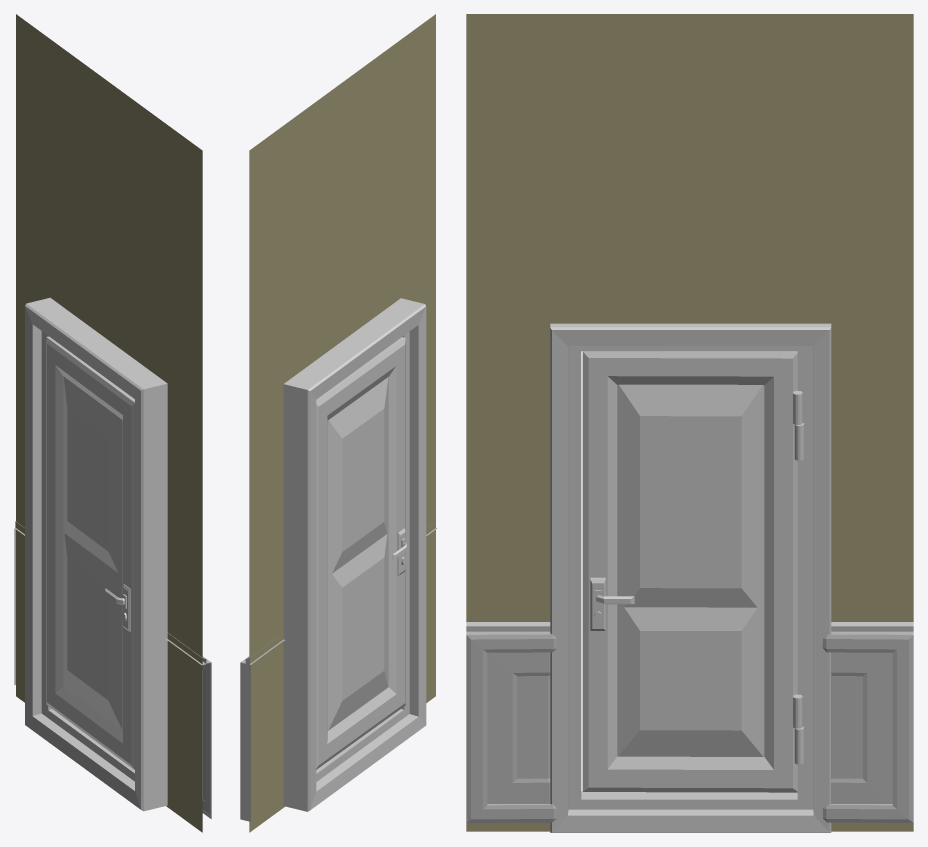
Rendered from WallDoorStatic.fbx.
The picture shows the model from 3 angles, left to right: view 1: azimuth 30°, elevation 25°; view 2: azimuth 150°, elevation 25°; view 3: azimuth 270°, elevation 25°; orthographic projection. The views are drawn at different scales.
Visible parts, largest first — view 1: WallDoorStatic; view 2: WallDoorStatic; view 3: WallDoorStatic.
Part boxes in pixels (x1,y1,x2,y2): WallDoorStatic: (14, 14, 211, 832); WallDoorStatic: (240, 14, 436, 832); WallDoorStatic: (466, 14, 913, 832).
Size of the model in its own units: 0.3577 by 6.05 by 3.
